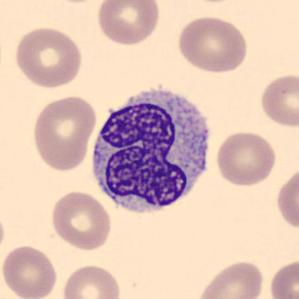Monocyte: (85, 79, 217, 224)
RBC: (30, 93, 98, 173), (12, 24, 85, 90), (174, 13, 250, 75), (49, 189, 113, 252), (213, 129, 278, 187), (0, 243, 59, 299), (94, 0, 162, 47), (196, 258, 267, 299), (60, 261, 123, 299), (257, 72, 298, 128), (274, 164, 298, 232), (267, 256, 299, 299), (0, 209, 7, 262)
